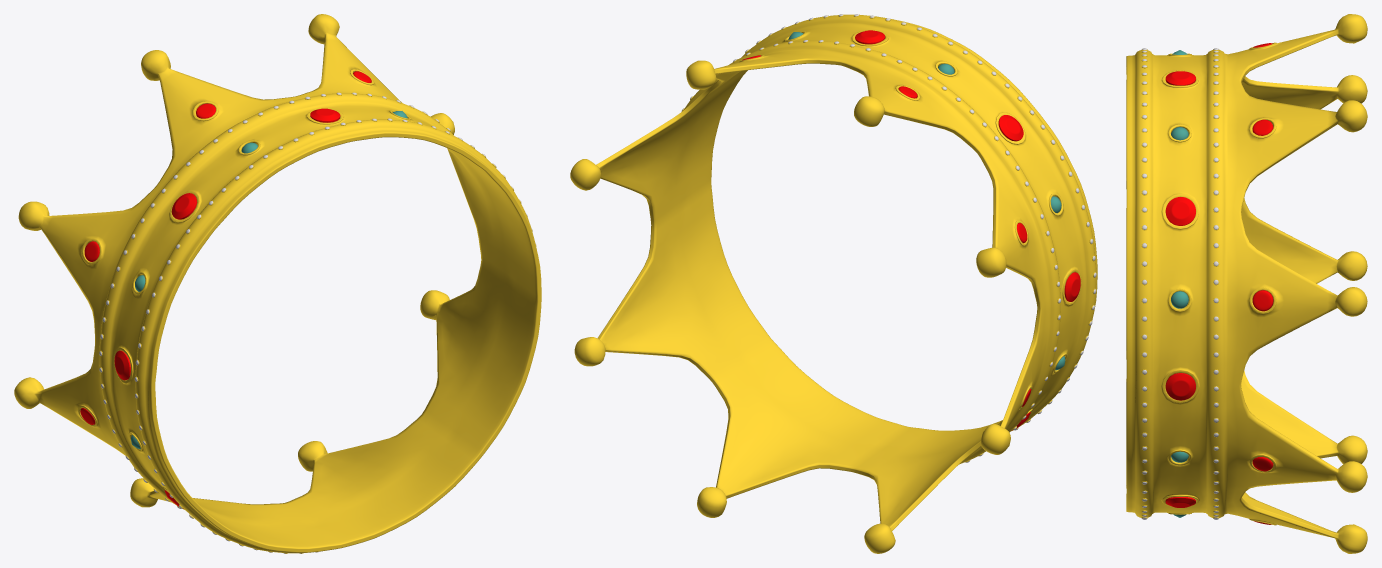
The model's file is Crown.fbx.
3 views of the same model, side by side, from view 1: azimuth 30°, elevation 25°; view 2: azimuth 150°, elevation 25°; view 3: azimuth 270°, elevation 25° (orthographic).
Parts seen in each view (by area): view 1: 13451_Golden_Crown_v1_L2; view 2: 13451_Golden_Crown_v1_L2; view 3: 13451_Golden_Crown_v1_L2.
Part boxes in pixels (bbox=[...]): 13451_Golden_Crown_v1_L2: bbox=[14, 14, 541, 553]; 13451_Golden_Crown_v1_L2: bbox=[570, 14, 1097, 553]; 13451_Golden_Crown_v1_L2: bbox=[1126, 14, 1367, 553].
Size of the model in its own units: 1955 by 1955 by 929.
